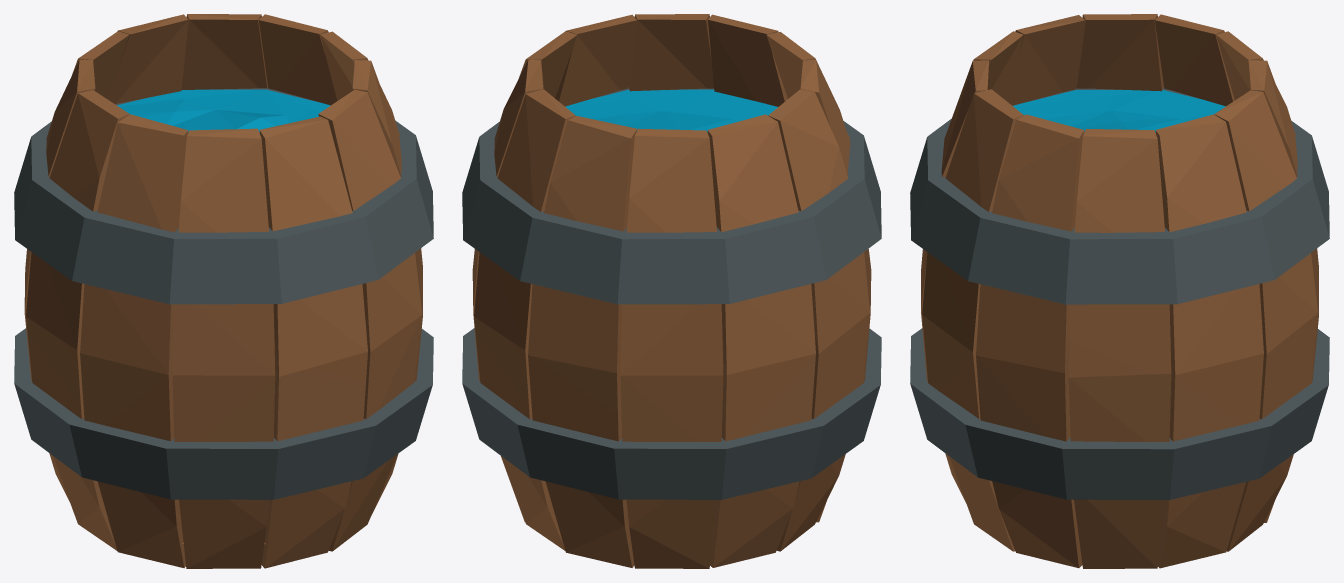
File: Barrel_02.fbx
3 views of the same model, side by side, from view 1: azimuth 30°, elevation 25°; view 2: azimuth 150°, elevation 25°; view 3: azimuth 270°, elevation 25° (orthographic).
Visible parts, largest first — view 1: Barrel_02; view 2: Barrel_02; view 3: Barrel_02.
Boxes of the visible parts, box(x1,y1,x2,y2) form: Barrel_02: box(14, 14, 433, 568); Barrel_02: box(462, 14, 881, 568); Barrel_02: box(910, 14, 1329, 568).
Size of the model in its own units: 89.94 by 103 by 89.94.
